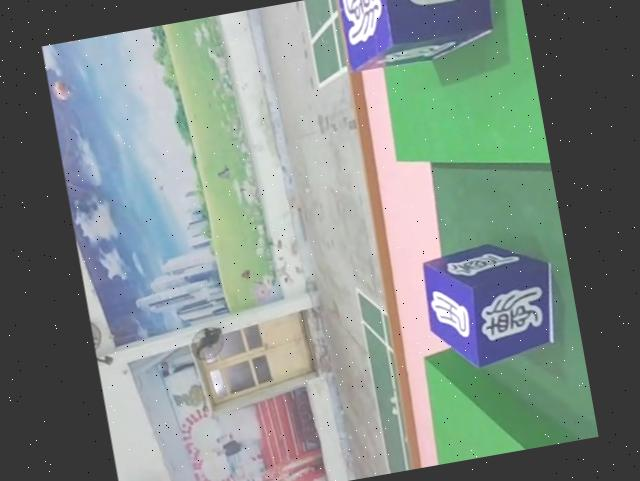R2 Fake Blue: (416, 233, 566, 374), (337, 0, 507, 74)
